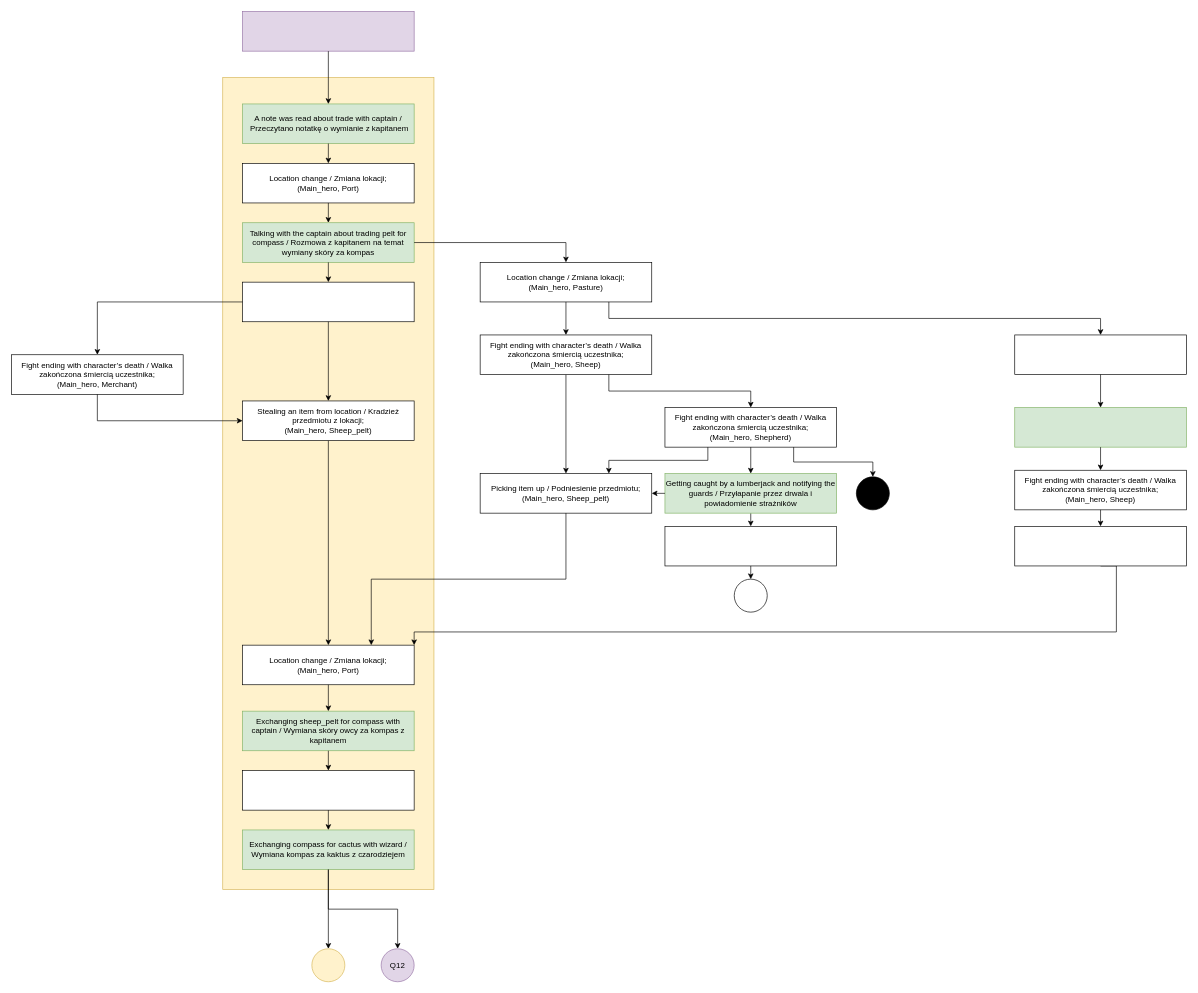
The diagram is 1198 pixels wide and 993 high, and some of its shapes have lost their labels. Each missing label, with the centre of its shape:
"Character’s arrest / Aresztowanie bohatera; (Main_hero, Lumberjack/Guard)" goes at (x=750, y=546).
"Fetching the sheep / Zwabienie owcy" goes at (x=1100, y=427).
"Gracz otrzymuje notatkę, Q13" goes at (x=328, y=31).
"Location change / Zmiana lokacji; (Main_hero, Warehouse)" goes at (x=328, y=301).
"Location change / Zmiana lokacji; (Main_hero, Wizards_hut)" goes at (x=328, y=790).
"Picking item up / Podniesienie przedmiotu ; (Herbs)" goes at (x=1100, y=354).
"Picking item up / Podniesienie przedmiotu ; (Main_hero, Sheep_pelt)" goes at (x=1100, y=546).
